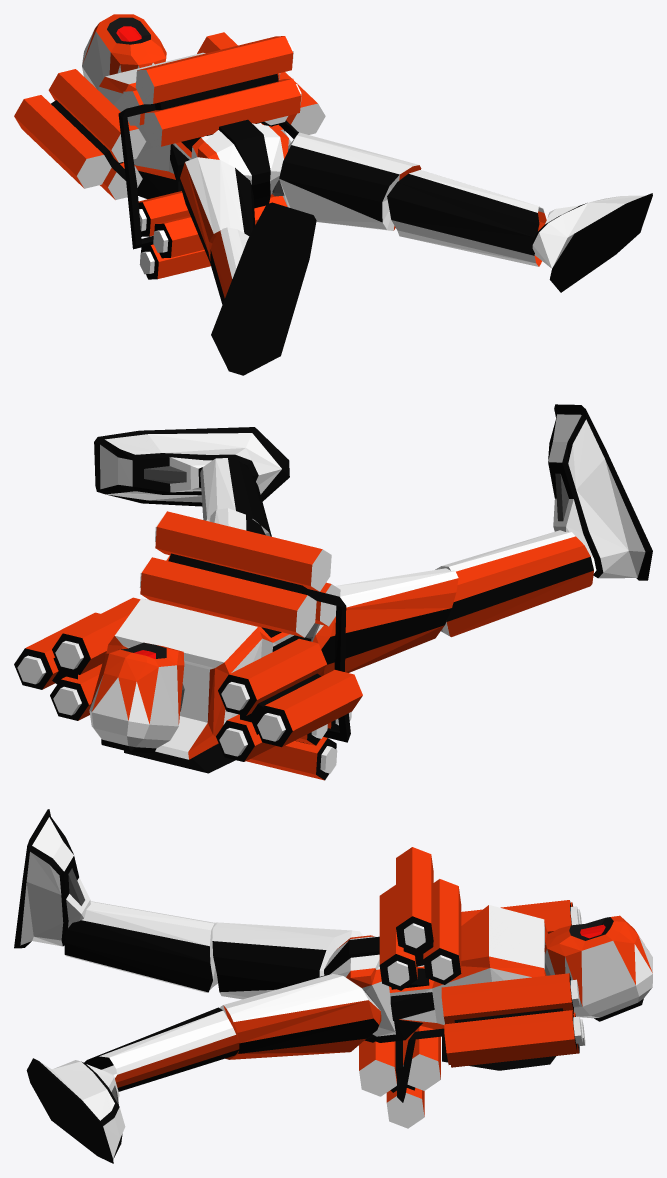
The model's file is robots_000008.obj.
3 views of the same model, one above another, from view 1: azimuth 30°, elevation 25°; view 2: azimuth 150°, elevation 25°; view 3: azimuth 270°, elevation 25° (orthographic). The views are drawn at different scales.
Visible parts, largest first — view 1: Cylinder.004_Cylinder.006, R_Foot_Cube, R_Shin.002_Cube.029, R_Thigh.002_Cube.027, R_Foot.002_Cube.035, R_Thigh_Cube.005, Pelvis_Cube.006, Head_base.002_Cube.030, Chest_plate_Cube.004, R_Shin_Cube.007; view 2: Cylinder.004_Cylinder.006, Chest_plate_Cube.004, R_Foot.002_Cube.035, R_Foot_Cube, R_Shin_Cube.007, R_Thigh_Cube.005, Head_base.002_Cube.030, R_Shin.002_Cube.029, R_Thigh.002_Cube.027; view 3: Cylinder.004_Cylinder.006, R_Thigh.002_Cube.027, R_Shin_Cube.007, Chest_plate_Cube.004, Head_base.002_Cube.030, R_Thigh_Cube.005, R_Foot_Cube, R_Shin.002_Cube.029, R_Foot.002_Cube.035, Pelvis_Cube.006.
Part boxes in pixels (left/top/right/bottom): Cylinder.004_Cylinder.006: left=14, top=32, right=325, bottom=279; R_Foot_Cube: left=211, top=202, right=316, bottom=375; R_Shin.002_Cube.029: left=387, top=170, right=546, bottom=266; R_Thigh.002_Cube.027: left=279, top=132, right=421, bottom=230; R_Foot.002_Cube.035: left=532, top=193, right=652, bottom=292; R_Thigh_Cube.005: left=180, top=157, right=255, bottom=261; Pelvis_Cube.006: left=191, top=119, right=288, bottom=208; Head_base.002_Cube.030: left=82, top=14, right=166, bottom=89; Chest_plate_Cube.004: left=98, top=52, right=272, bottom=199; R_Shin_Cube.007: left=210, top=227, right=249, bottom=304; Cylinder.004_Cylinder.006: left=14, top=511, right=362, bottom=780; Chest_plate_Cube.004: left=106, top=598, right=310, bottom=773; R_Foot.002_Cube.035: left=94, top=427, right=289, bottom=506; R_Foot_Cube: left=548, top=404, right=652, bottom=580; R_Shin_Cube.007: left=435, top=530, right=593, bottom=637; R_Thigh_Cube.005: left=311, top=568, right=458, bottom=676; Head_base.002_Cube.030: left=89, top=642, right=184, bottom=753; R_Shin.002_Cube.029: left=200, top=458, right=271, bottom=536; R_Thigh.002_Cube.027: left=209, top=508, right=265, bottom=535; Cylinder.004_Cylinder.006: left=359, top=847, right=585, bottom=1128; R_Thigh.002_Cube.027: left=220, top=973, right=381, bottom=1059; R_Shin_Cube.007: left=64, top=901, right=217, bottom=992; Chest_plate_Cube.004: left=389, top=905, right=556, bottom=1070; Head_base.002_Cube.030: left=544, top=915, right=652, bottom=1021; R_Thigh_Cube.005: left=212, top=922, right=363, bottom=999; R_Foot_Cube: left=14, top=809, right=90, bottom=948; R_Shin.002_Cube.029: left=84, top=1007, right=239, bottom=1091; R_Foot.002_Cube.035: left=26, top=1058, right=125, bottom=1163; Pelvis_Cube.006: left=324, top=935, right=422, bottom=1042.
Bounding box in the file's own units: 2.6 × 1.16 × 3.
